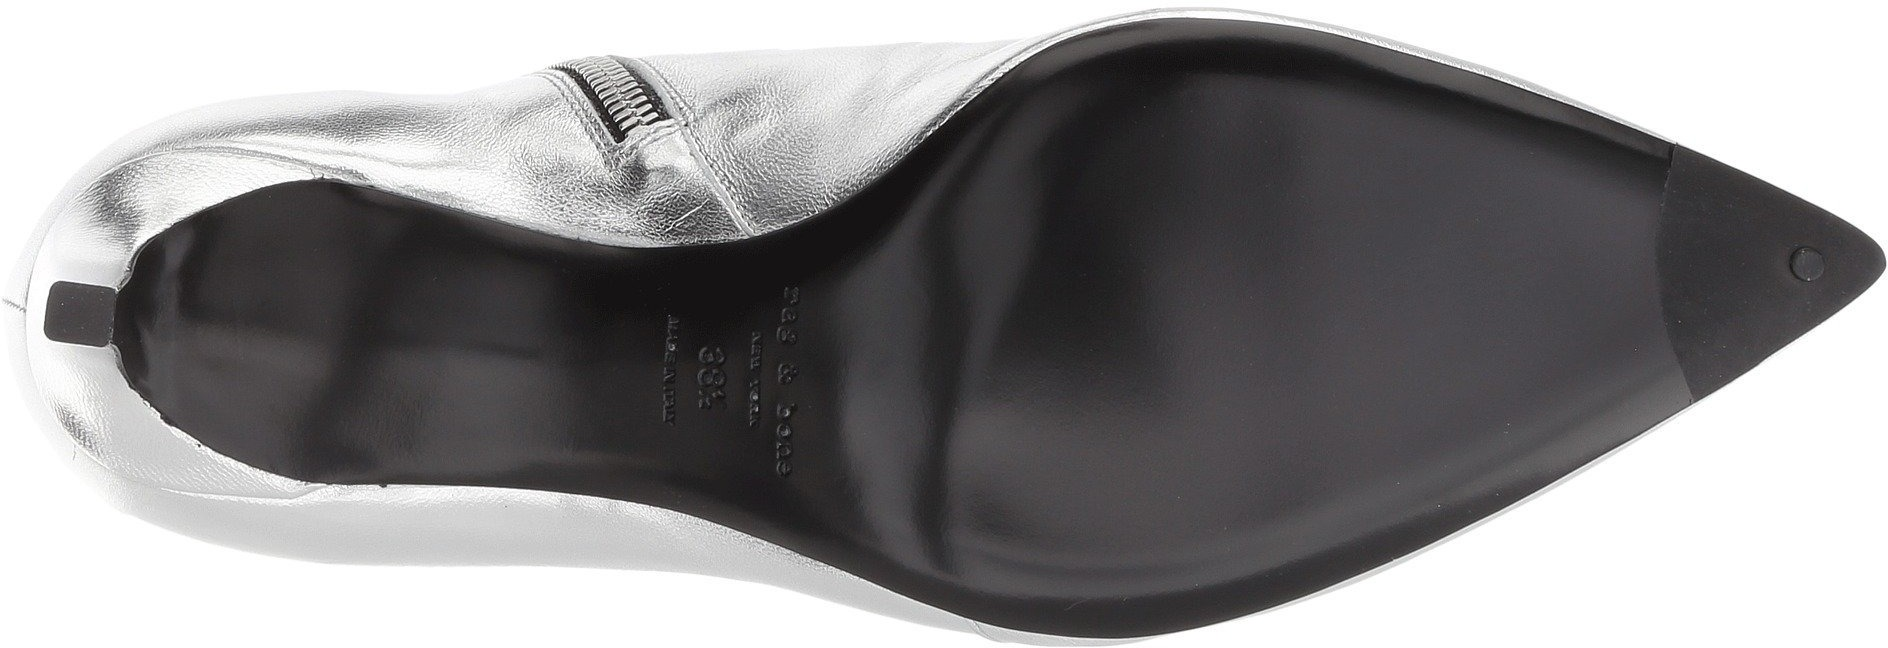circle: (1772, 231, 1858, 298)
other: (1013, 120, 1473, 503), (1477, 255, 1654, 431)
quad: (37, 266, 129, 350)
